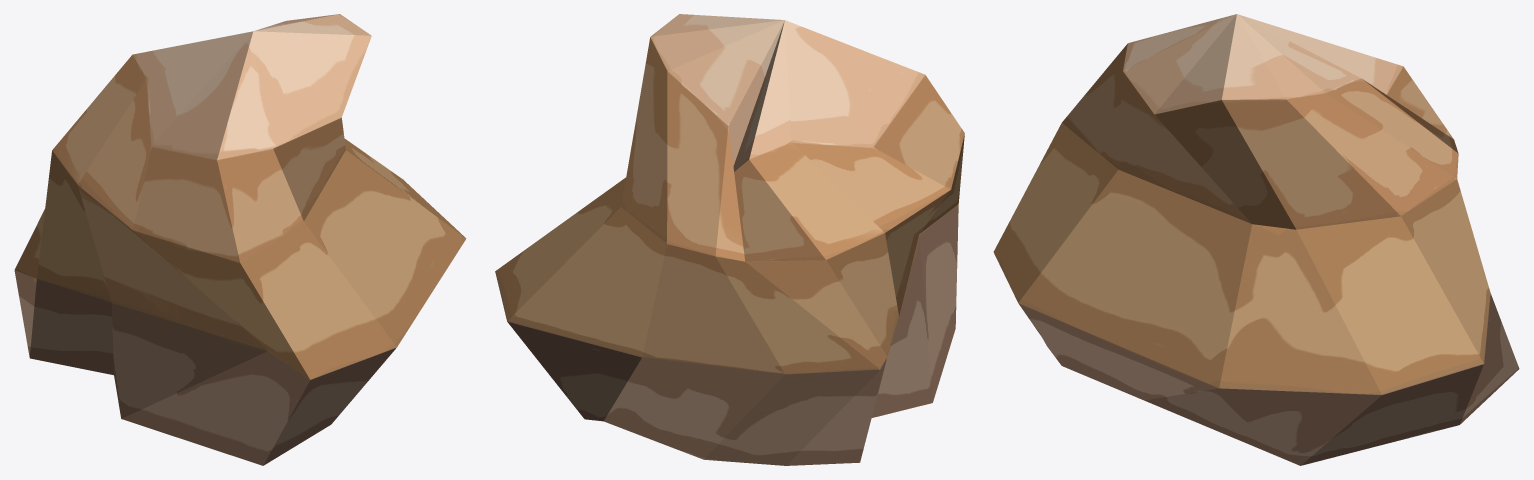
Rendered from rock 2 FBX.FBX.
The picture shows the model from 3 angles, left to right: view 1: azimuth 30°, elevation 25°; view 2: azimuth 150°, elevation 25°; view 3: azimuth 270°, elevation 25°; orthographic projection. The views are drawn at different scales.
Parts seen in each view (by area): view 1: Sphere001; view 2: Sphere001; view 3: Sphere001.
Boxes of the visible parts, x1=… form: Sphere001: x1=14, y1=14, x2=466, y2=465; Sphere001: x1=495, y1=14, x2=964, y2=465; Sphere001: x1=993, y1=14, x2=1519, y2=465.
Size of the model in its own units: 38.56 by 33.57 by 42.86.
1 material, 1 textured.
